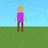person: (14, 6, 26, 31)
